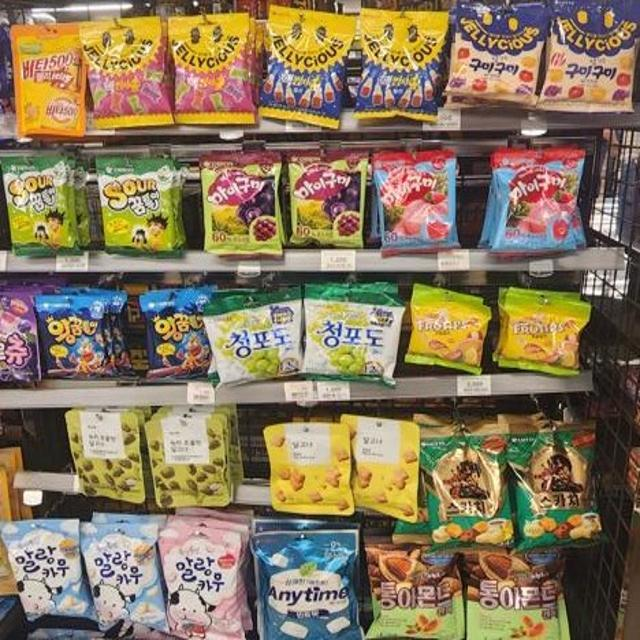product: (423, 429, 514, 542), (262, 8, 352, 122), (367, 540, 464, 640), (356, 8, 446, 115), (258, 534, 353, 635), (494, 149, 580, 257), (469, 540, 561, 640), (172, 15, 254, 126), (517, 429, 600, 536), (302, 301, 406, 384), (552, 4, 637, 105), (377, 155, 459, 258), (82, 19, 168, 115), (451, 4, 538, 98), (201, 154, 280, 254), (13, 28, 86, 135), (164, 530, 238, 631), (97, 159, 175, 252), (88, 524, 159, 626), (267, 429, 353, 512), (292, 153, 366, 248), (4, 155, 75, 254), (209, 307, 302, 382), (36, 292, 117, 375), (150, 414, 224, 500)
